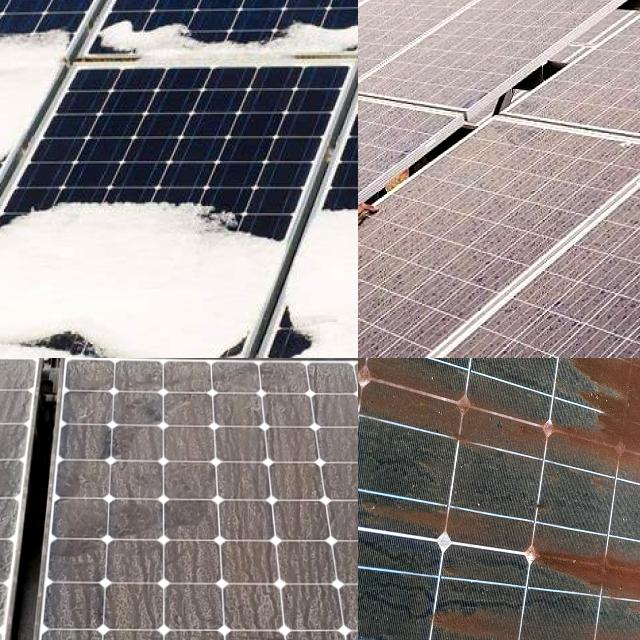dust: (80, 512, 272, 640), (82, 364, 274, 476), (358, 358, 569, 438), (372, 0, 496, 91), (391, 188, 468, 312), (570, 401, 640, 533), (550, 546, 640, 640), (464, 358, 592, 424), (291, 514, 358, 640), (484, 124, 542, 268), (290, 370, 358, 487), (513, 303, 640, 358), (358, 604, 531, 640), (358, 286, 413, 358), (364, 358, 538, 380), (358, 119, 391, 231), (589, 53, 640, 124), (558, 133, 612, 194), (358, 82, 388, 184), (358, 272, 392, 358), (608, 216, 640, 303), (358, 112, 401, 164), (358, 0, 406, 43), (508, 0, 554, 41), (452, 0, 538, 21), (358, 0, 397, 43), (570, 0, 620, 31), (358, 0, 437, 17), (358, 6, 372, 85), (358, 0, 380, 16)
panel: (4, 184, 293, 262), (0, 285, 148, 358), (232, 0, 358, 69), (98, 0, 210, 74), (0, 0, 91, 76), (296, 168, 358, 257), (209, 315, 325, 358), (7, 81, 86, 139), (0, 127, 57, 197), (0, 224, 35, 313), (0, 304, 29, 358)
